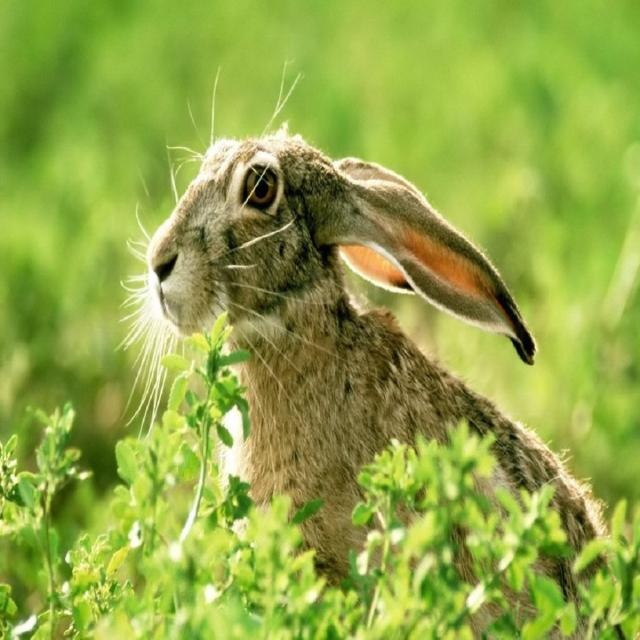Hare: (135, 67, 610, 578)
